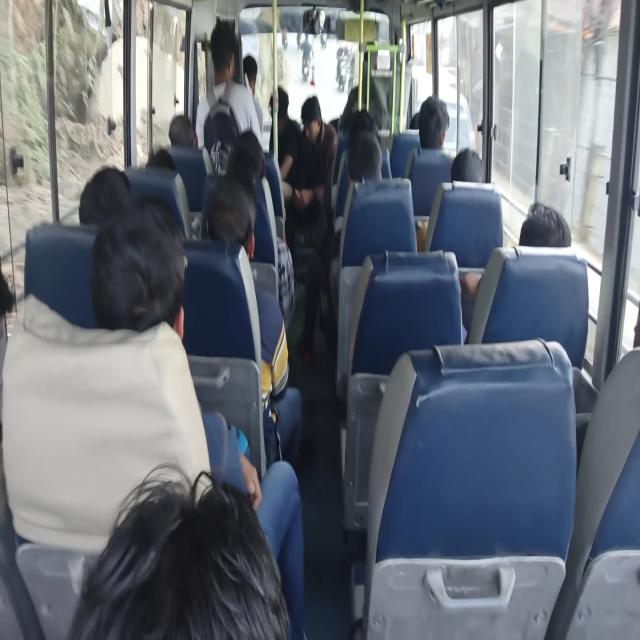person: (108, 469, 354, 640), (94, 225, 194, 360), (210, 190, 261, 250), (362, 130, 402, 202), (92, 152, 127, 227), (532, 211, 573, 272), (209, 33, 243, 89), (421, 92, 449, 153), (170, 103, 201, 156), (134, 140, 168, 188), (0, 208, 12, 344), (334, 116, 387, 146), (457, 146, 486, 198), (236, 137, 264, 184), (243, 124, 270, 160), (627, 313, 640, 377), (269, 93, 292, 129), (352, 115, 378, 146), (298, 106, 316, 132), (247, 67, 261, 100), (412, 94, 424, 130)
